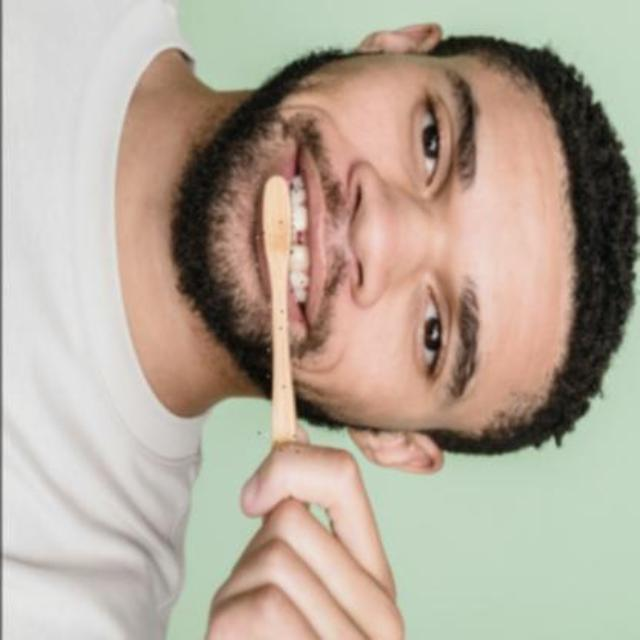toothbrush: (256, 164, 304, 453)
